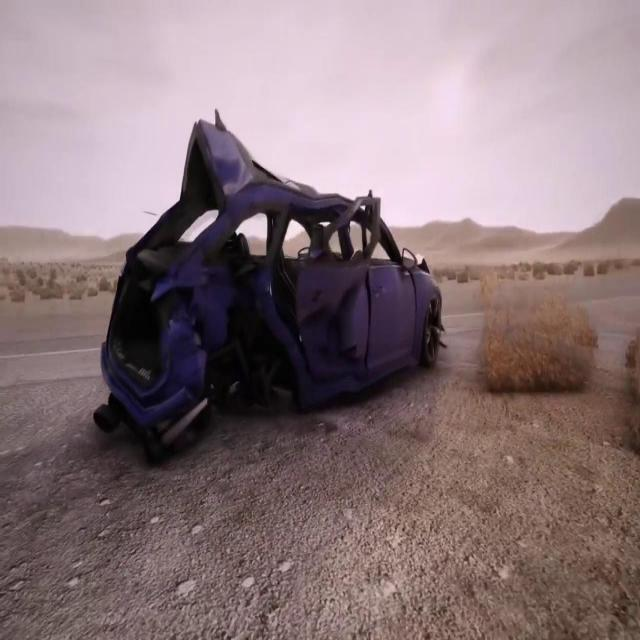accident: (86, 107, 448, 466)
